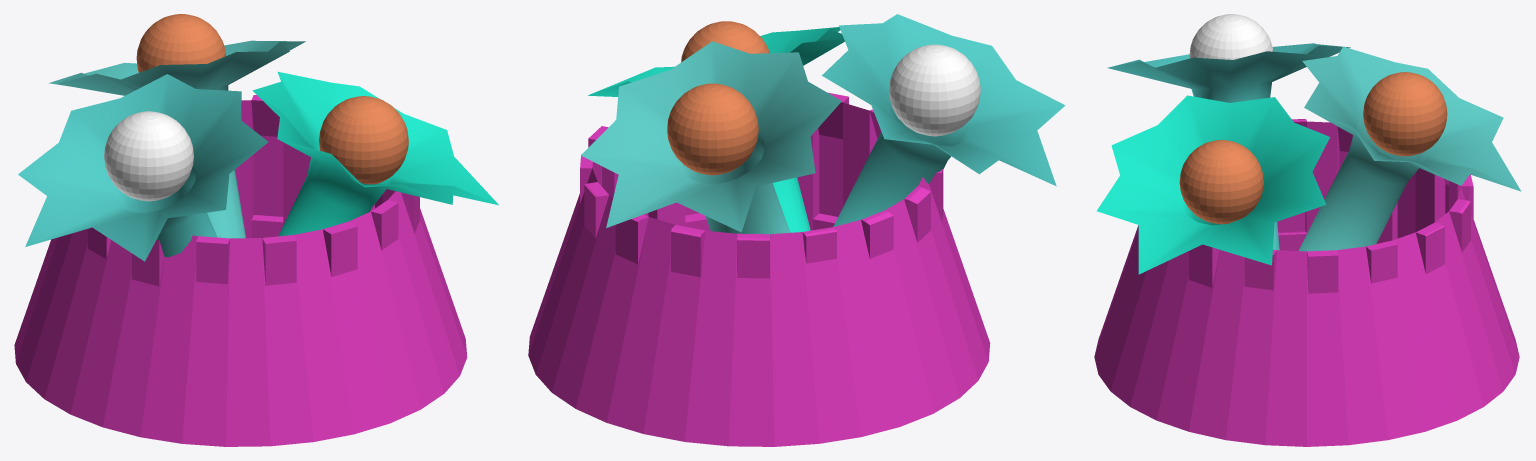
File: aula_teste.gltf
The picture shows the model from 3 angles, left to right: view 1: azimuth 30°, elevation 25°; view 2: azimuth 150°, elevation 25°; view 3: azimuth 270°, elevation 25°; orthographic projection. The views are drawn at different scales.
Visible parts, largest first — view 1: Cilindro, Plano.001, Plano, Plano.002, Esfera UV.001, Esfera UV.002, Esfera UV.003; view 2: Cilindro, Plano.002, Plano.001, Esfera UV.003, Esfera UV.001, Plano, Esfera UV.002; view 3: Cilindro, Plano, Plano.002, Plano.001, Esfera UV.003, Esfera UV.002, Esfera UV.001.
Boxes of the visible parts, bbox=[...] form: Cilindro: bbox=[14, 95, 467, 446]; Plano.001: bbox=[18, 74, 268, 261]; Plano: bbox=[252, 71, 498, 236]; Plano.002: bbox=[48, 40, 305, 238]; Esfera UV.001: bbox=[104, 111, 193, 201]; Esfera UV.002: bbox=[319, 96, 408, 184]; Esfera UV.003: bbox=[136, 14, 225, 72]; Cilindro: bbox=[528, 92, 990, 446]; Plano.002: bbox=[581, 41, 841, 234]; Plano.001: bbox=[822, 14, 1065, 226]; Esfera UV.003: bbox=[667, 83, 758, 175]; Esfera UV.001: bbox=[889, 44, 980, 136]; Plano: bbox=[588, 27, 844, 232]; Esfera UV.002: bbox=[681, 21, 769, 62]; Cilindro: bbox=[1094, 119, 1519, 446]; Plano: bbox=[1096, 95, 1329, 274]; Plano.002: bbox=[1298, 46, 1521, 251]; Plano.001: bbox=[1107, 43, 1350, 250]; Esfera UV.003: bbox=[1363, 72, 1447, 156]; Esfera UV.002: bbox=[1179, 140, 1263, 224]; Esfera UV.001: bbox=[1189, 14, 1273, 59].
Bounding box in the file's own units: 6.14 × 3.88 × 5.38.
